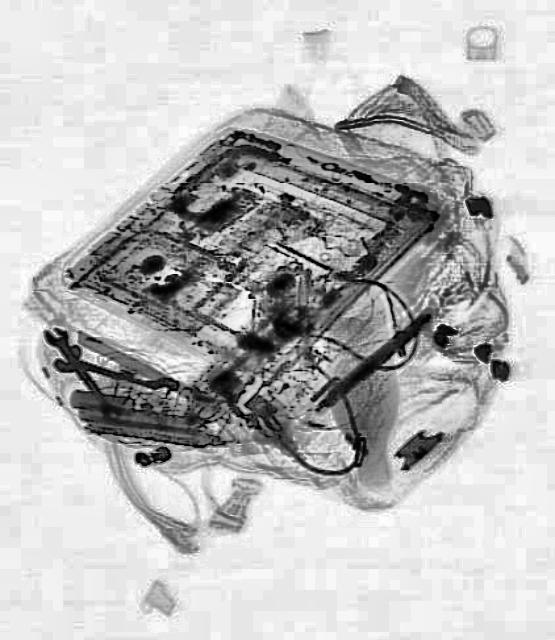Wrench: (39, 320, 121, 426), (49, 338, 180, 402)
